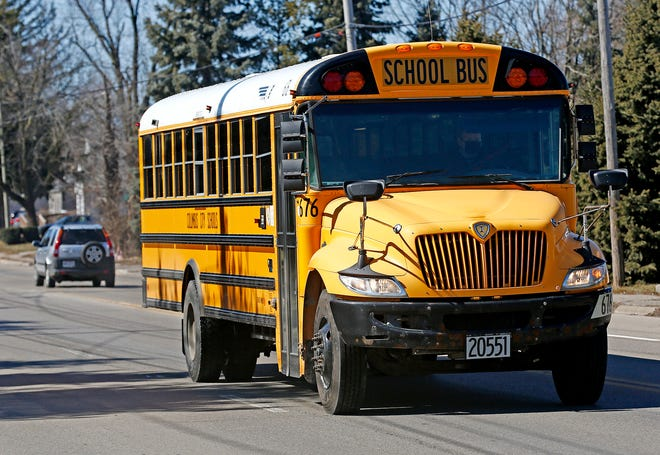bus: (136, 40, 614, 416)
